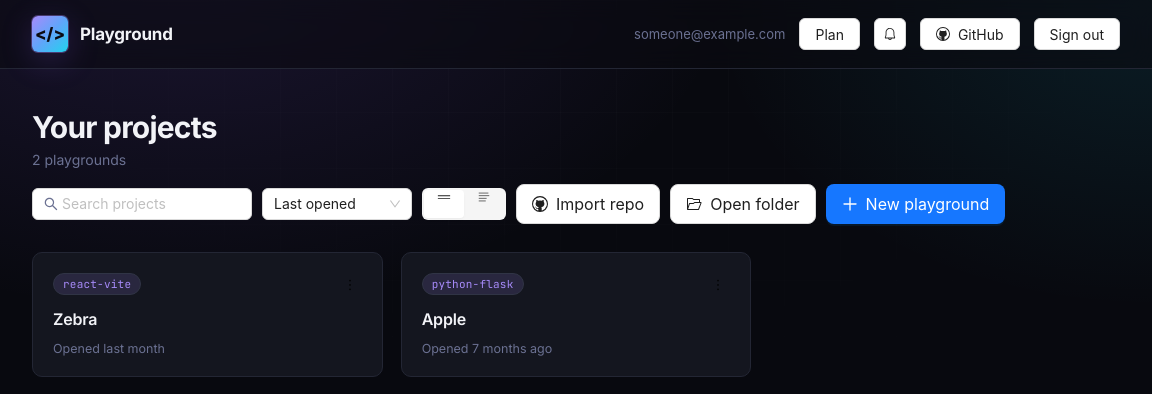
Test case: choosing a layout › puts the rows in a container the list styles apply to
expect the text "Zebra" is shown: met, box 53,309 -> 97,329
Click the element named "List view" at {"x": 484, "y": 197}, box 477,190 -> 491,204
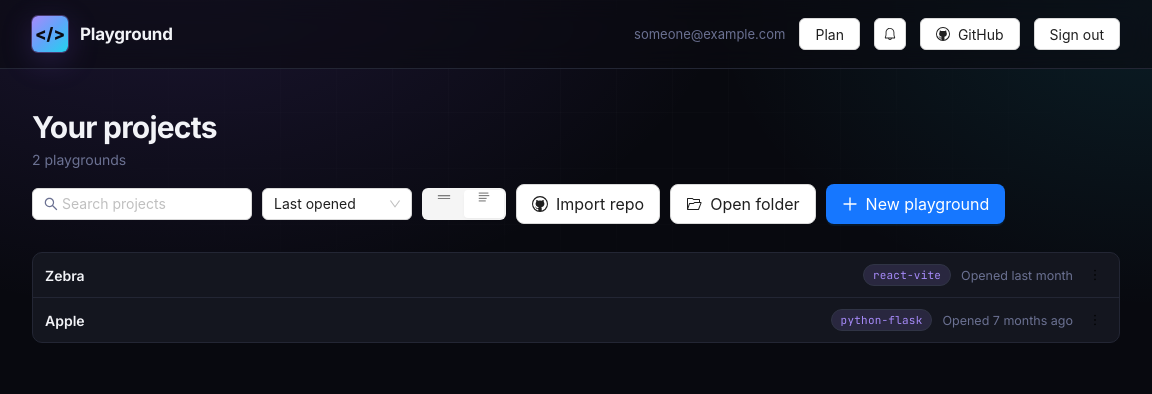
expect the element that starts with "Zebra" is shown: met, box 32,252 -> 1120,343
